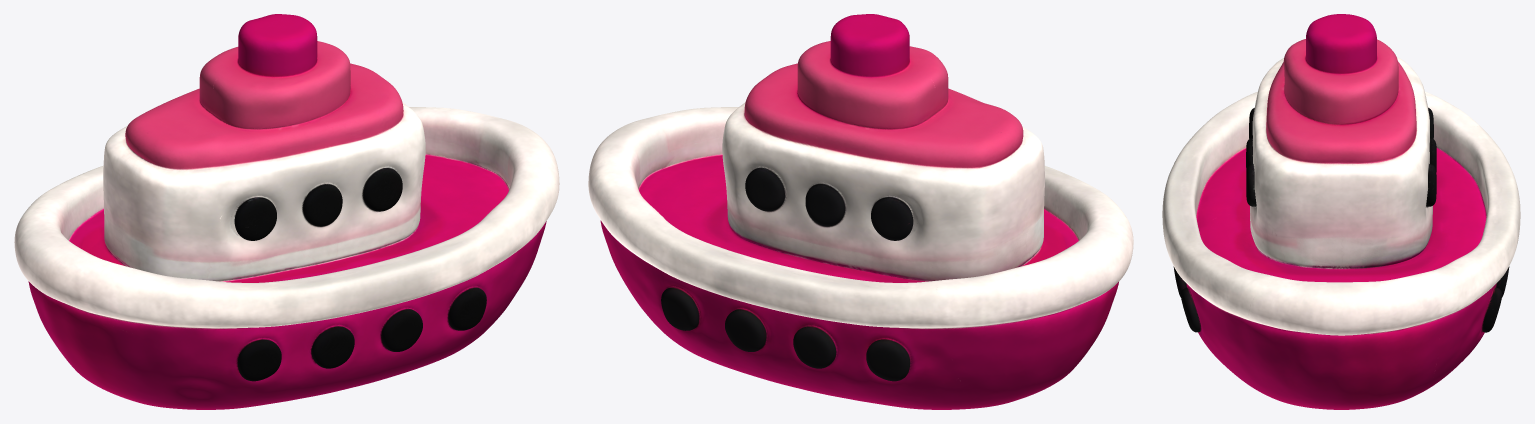
The model's file is boat.glb.
3 renders of one model, left to right at view 1: azimuth 30°, elevation 25°; view 2: azimuth 150°, elevation 25°; view 3: azimuth 270°, elevation 25°, orthographic. The views are drawn at different scales.
Bounding box in the file's own units: 1.9 × 1.16 × 1.24.
1 material, 1 textured.
